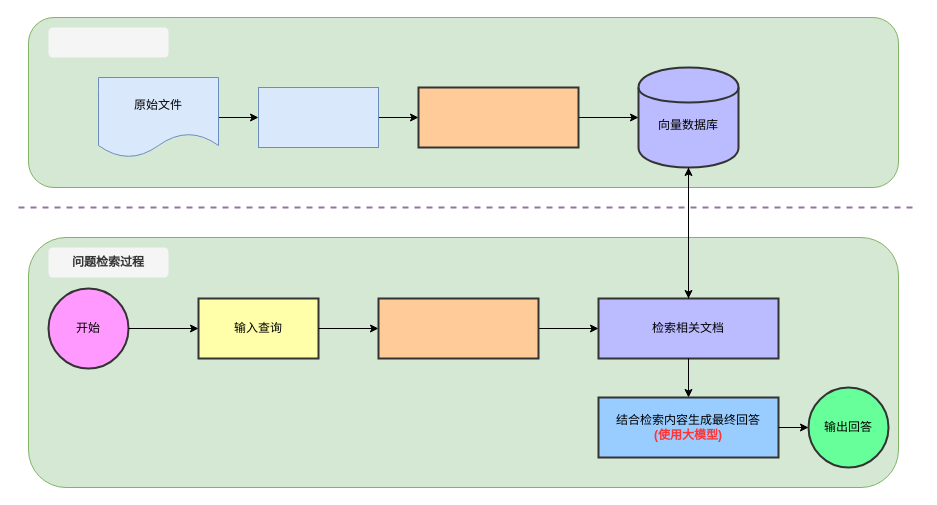
Image size: 937x505. Some labels were removed from this diagram. The shapes that lost their labels are listed below. From the top down, each one's centre as x and y in pixels, then its label:
At [108,42]: "知识库构建过程".
At [318,117]: "文档预处理 （ ETL ）".
At [498,117]: "文档向量化 (使用向量化模型)".
At [458,328]: "查询输入内容向量化 (使用向量化模型)".
